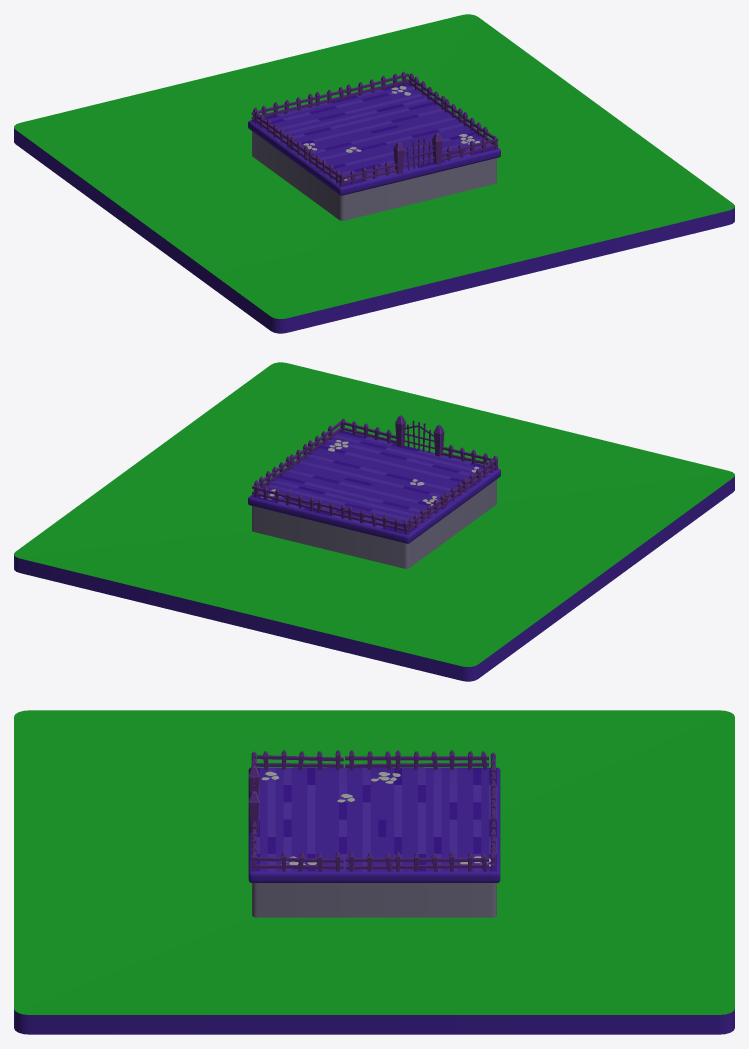
The model's file is map.fbx.
The picture shows the model from 3 angles, top to bottom: view 1: azimuth 30°, elevation 25°; view 2: azimuth 150°, elevation 25°; view 3: azimuth 270°, elevation 25°; orthographic projection. The views are drawn at different scales.
Visible parts, largest first — view 1: Cube; view 2: Cube; view 3: Cube.
Part boxes in pixels (bbox=[...]): Cube: bbox=[14, 14, 734, 333]; Cube: bbox=[14, 362, 734, 681]; Cube: bbox=[14, 710, 734, 1034].
Size of the model in its own units: 12320 by 1937 by 12320.
